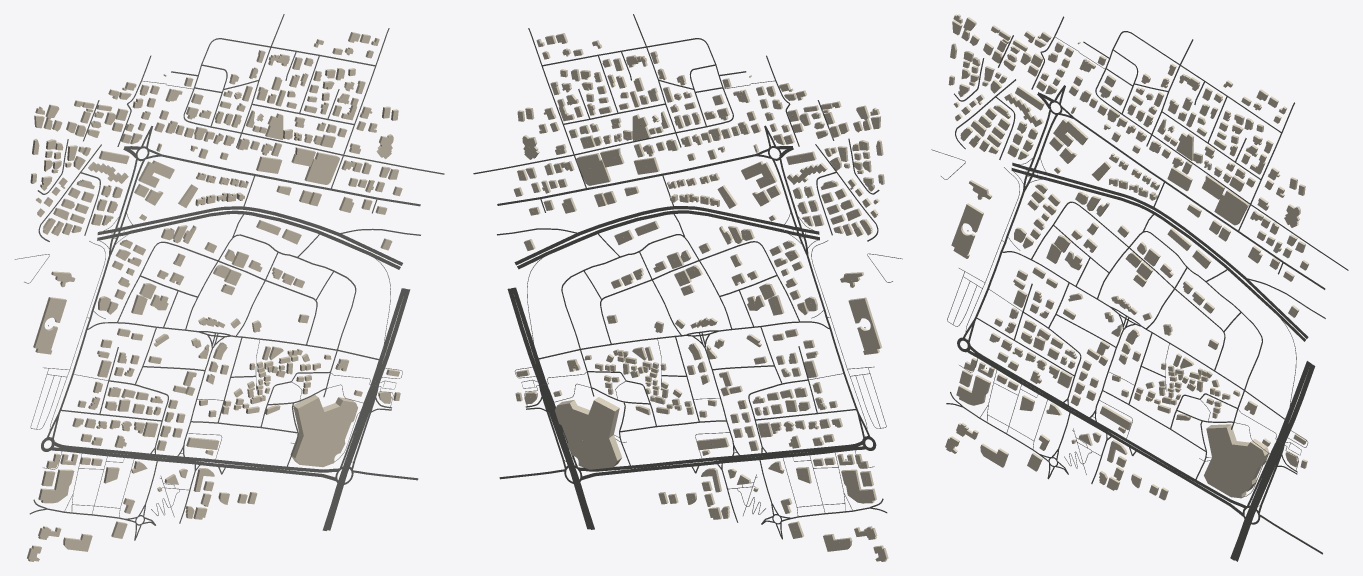
Rendered from amman_3588_3194.glb.
The picture shows the model from 3 angles, left to right: view 1: azimuth 30°, elevation 25°; view 2: azimuth 150°, elevation 25°; view 3: azimuth 330°, elevation 25°; orthographic projection. The views are drawn at different scales.
Visible parts, largest first — view 1: Building_.007, Road شارع الأمير علي بن الحسين, Road شارع الأمير علي بن الحسين.001, Road شارع شوكت السلطي, Building_, Building_.060, Road شارع سعد زغلول.004, Road شارع سعيد عبدو شموط, Road شارع سعيد عبدو شموط.003, Building_.011, Road شارع الأمير هاشم بن الحسين, Road شارع الطفيلة (+2 smaller); view 2: Building_.007, Road شارع الأمير علي بن الحسين, Road شارع الأمير علي بن الحسين.001, Road شارع شوكت السلطي, Building_, Building_.060, Road شارع سعد زغلول.004, Road شارع سعيد عبدو شموط.003, Road شارع سعيد عبدو شموط, Building_.011, Road شارع الأمير هاشم بن الحسين.001, Road شارع الأمير هاشم بن الحسين (+2 smaller); view 3: Building_.007, Road شارع الأمير علي بن الحسين, Road شارع الأمير علي بن الحسين.001, Road شارع شوكت السلطي, Building_, Building_.060, Road شارع سعد زغلول.004, Road شارع سعيد عبدو شموط, Road شارع سعيد عبدو شموط.003, Building_.011, Road شارع الطفيلة, Road شارع سيف الدين الكيلاني.001.
Boxes of the visible parts, x1,y1,x2,y2 form: Building_.007: (290, 395, 357, 467); Road شارع الأمير علي بن الحسين: (134, 206, 402, 265); Road شارع الأمير علي بن الحسين.001: (132, 210, 400, 269); Road شارع شوكت السلطي: (183, 38, 444, 174); Building_: (33, 297, 66, 354); Building_.060: (304, 152, 339, 184); Road شارع سعد زغلول.004: (161, 154, 420, 206); Road شارع سعيد عبدو شموط: (158, 454, 339, 472); Road شارع سعيد عبدو شموط.003: (157, 458, 335, 481); Building_.011: (38, 469, 74, 503); Road شارع الأمير هاشم بن الحسين: (322, 410, 366, 530); Road شارع الطفيلة: (117, 241, 317, 344); Building_.007: (555, 397, 622, 469); Road شارع الأمير علي بن الحسين: (514, 206, 782, 265); Road شارع الأمير علي بن الحسين.001: (517, 210, 784, 269); Road شارع شوكت السلطي: (473, 38, 733, 174); Building_: (848, 297, 881, 354); Building_.060: (576, 153, 611, 185); Road شارع سعد زغلول.004: (497, 154, 755, 205); Road شارع سعيد عبدو شموط.003: (582, 457, 759, 479); Road شارع سعيد عبدو شموط: (578, 453, 758, 471); Building_.011: (841, 469, 876, 503); Road شارع الأمير هاشم بن الحسين.001: (548, 409, 591, 529); Road شارع الأمير هاشم بن الحسين: (551, 409, 594, 529); Building_.007: (1204, 424, 1269, 498); Road شارع الأمير علي بن الحسين: (1048, 173, 1308, 338); Road شارع الأمير علي بن الحسين.001: (1046, 177, 1305, 341); Road شارع شوكت السلطي: (1095, 31, 1348, 270); Building_: (951, 203, 983, 258); Building_.060: (1214, 189, 1248, 225); Road شارع سعد زغلول.004: (1074, 117, 1325, 289); Road شارع سعيد عبدو شموط: (1071, 407, 1246, 508); Road شارع سعيد عبدو شموط.003: (1070, 410, 1244, 516); Building_.011: (956, 375, 990, 405); Road شارع الطفيلة: (1031, 201, 1225, 370); Road شارع سيف الدين الكيلاني.001: (1097, 231, 1262, 390).
Bounding box in the file's own units: 1116 × 1309 × 22.9.
